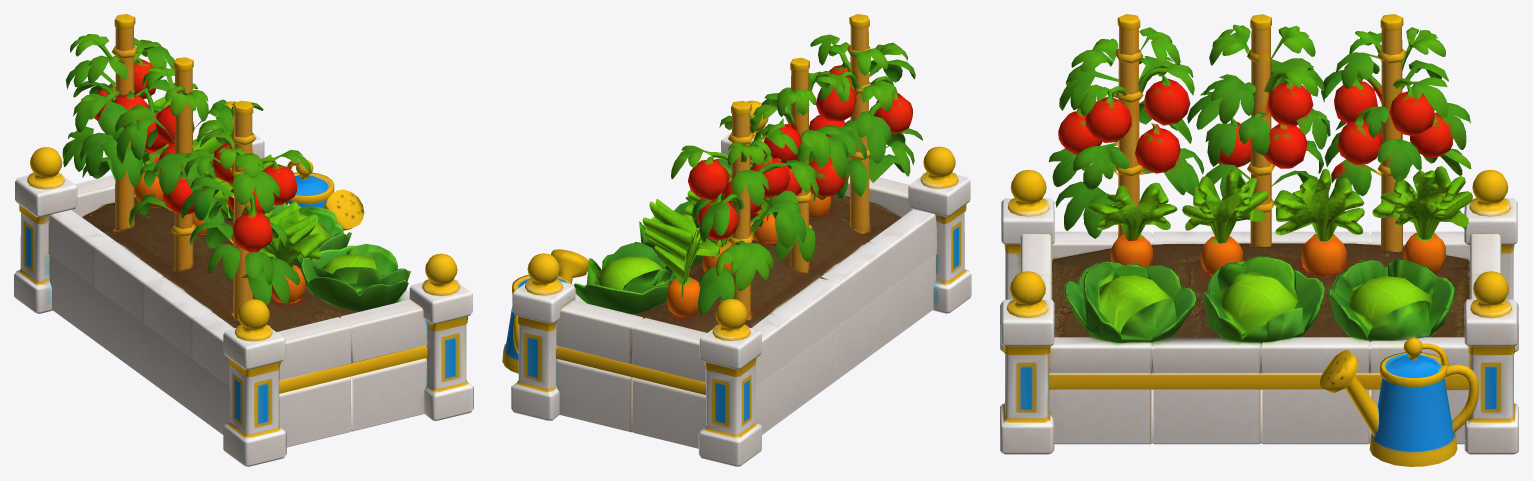
The model's file is HaloReasonHQ_VegGarden_SM_tex4k_pbr_src.fbx.
3 renders of one model, left to right at view 1: azimuth 30°, elevation 25°; view 2: azimuth 150°, elevation 25°; view 3: azimuth 270°, elevation 25°, orthographic. The views are drawn at different scales.
Visible parts, largest first — view 1: tripo_44e6915a_fa37_4e29_ac1f_41175970402a; view 2: tripo_44e6915a_fa37_4e29_ac1f_41175970402a; view 3: tripo_44e6915a_fa37_4e29_ac1f_41175970402a.
Boxes of the visible parts, x1,y1,x2,y2 form: tripo_44e6915a_fa37_4e29_ac1f_41175970402a: [14, 14, 473, 466]; tripo_44e6915a_fa37_4e29_ac1f_41175970402a: [502, 14, 971, 466]; tripo_44e6915a_fa37_4e29_ac1f_41175970402a: [1000, 14, 1518, 466].
Bounding box in the file's own units: 0.7065 × 0.729 × 0.9995.
Materials: 1 (1 with a texture image).
